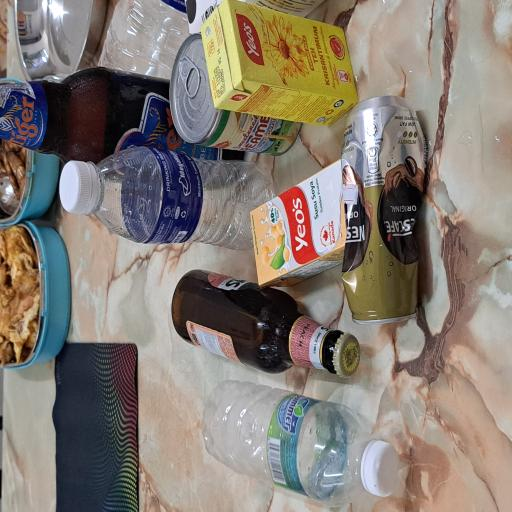can: (268, 225, 359, 405), (138, 454, 313, 512)
drink carton: (290, 267, 384, 479), (168, 333, 265, 462)
glass bottle: (242, 0, 336, 325), (102, 230, 182, 482)
plastic bottle: (4, 269, 100, 500), (196, 127, 275, 368), (323, 128, 384, 253)
plastic bottle cap: (223, 78, 264, 130), (11, 482, 55, 512)
pop tab: (311, 237, 341, 267)
